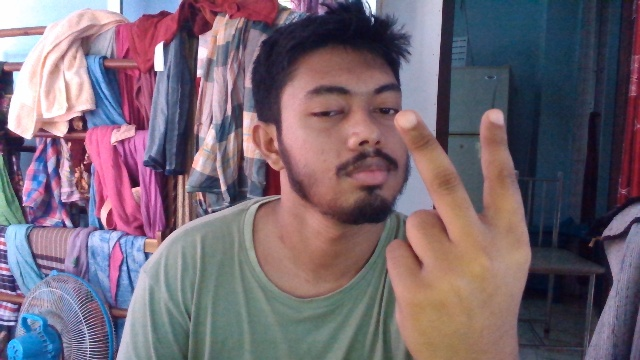thanks: (375, 92, 549, 349)
